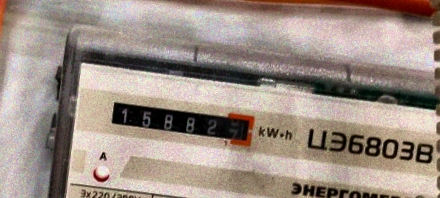1: (117, 104, 130, 124)
2: (204, 116, 218, 136)
5: (139, 109, 152, 127)
7: (226, 126, 238, 139)
8: (160, 111, 174, 130), (182, 114, 196, 133)
screen: (101, 89, 260, 154)
